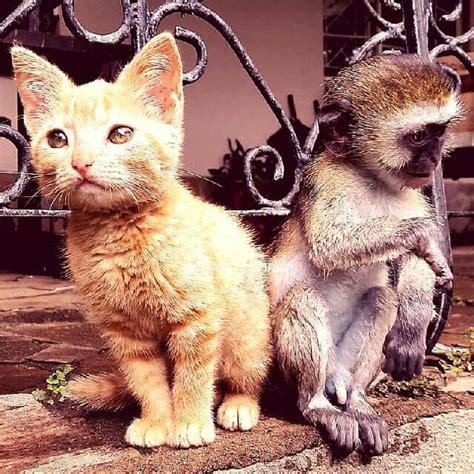cat: (10, 31, 272, 447)
monkey: (270, 56, 461, 457)
